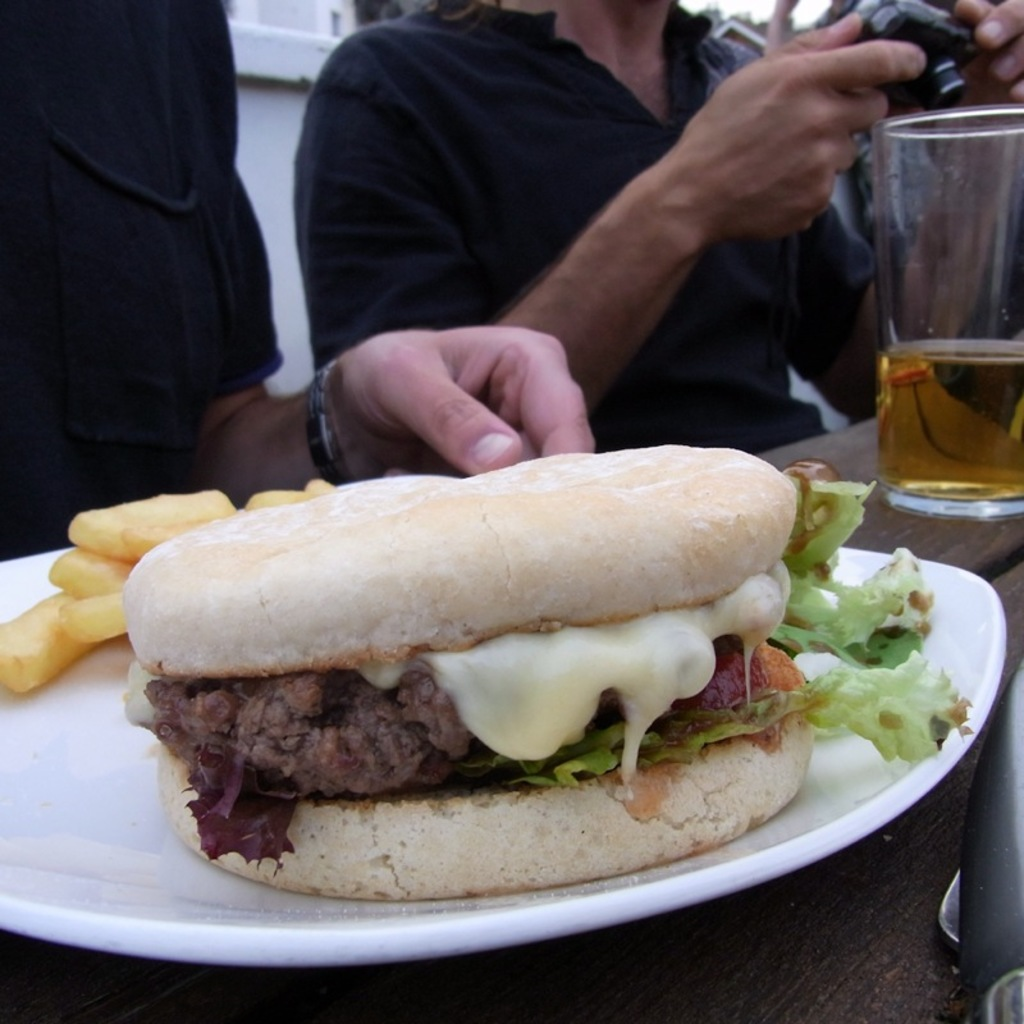Hamburger: (122, 450, 974, 898)
